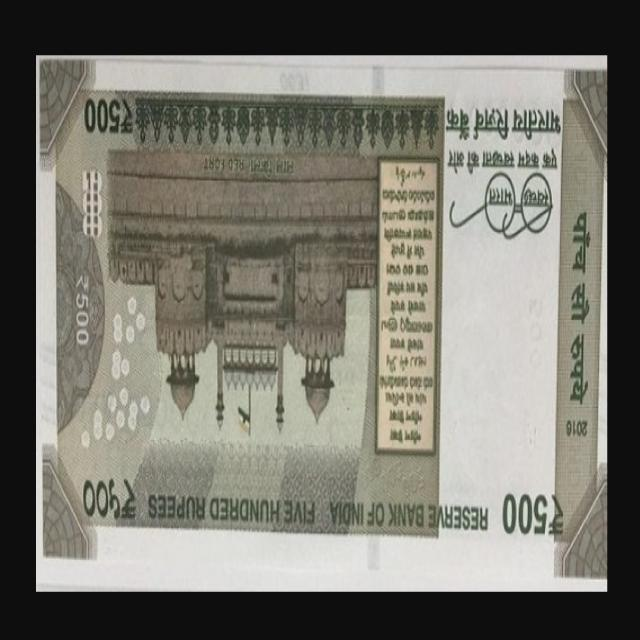500IndianRupees: (36, 56, 606, 594)
